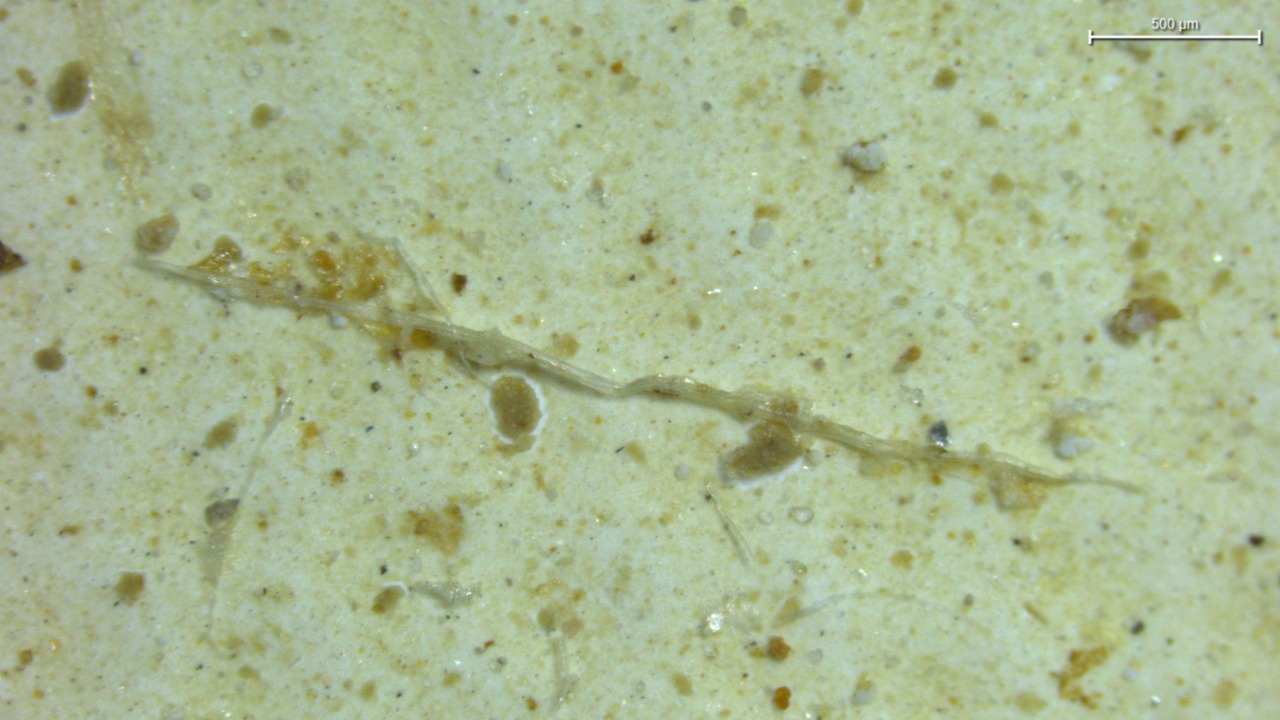microplastic_fragment: (841, 142, 886, 172)
